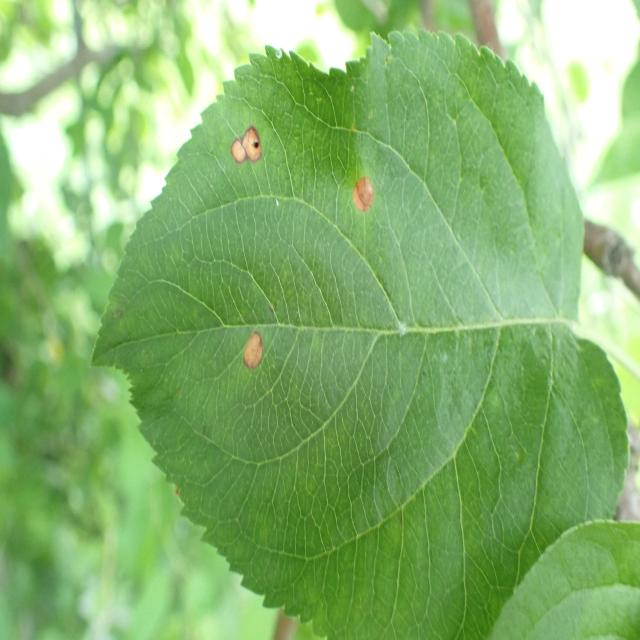Black Rot: (341, 149, 398, 242), (232, 313, 270, 401), (226, 102, 266, 172)
